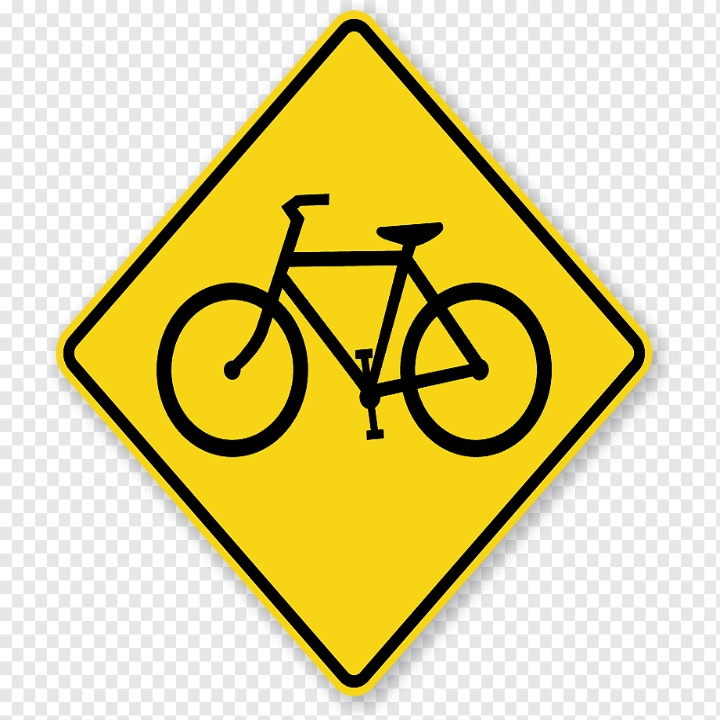bicycle: (193, 9, 527, 343)
